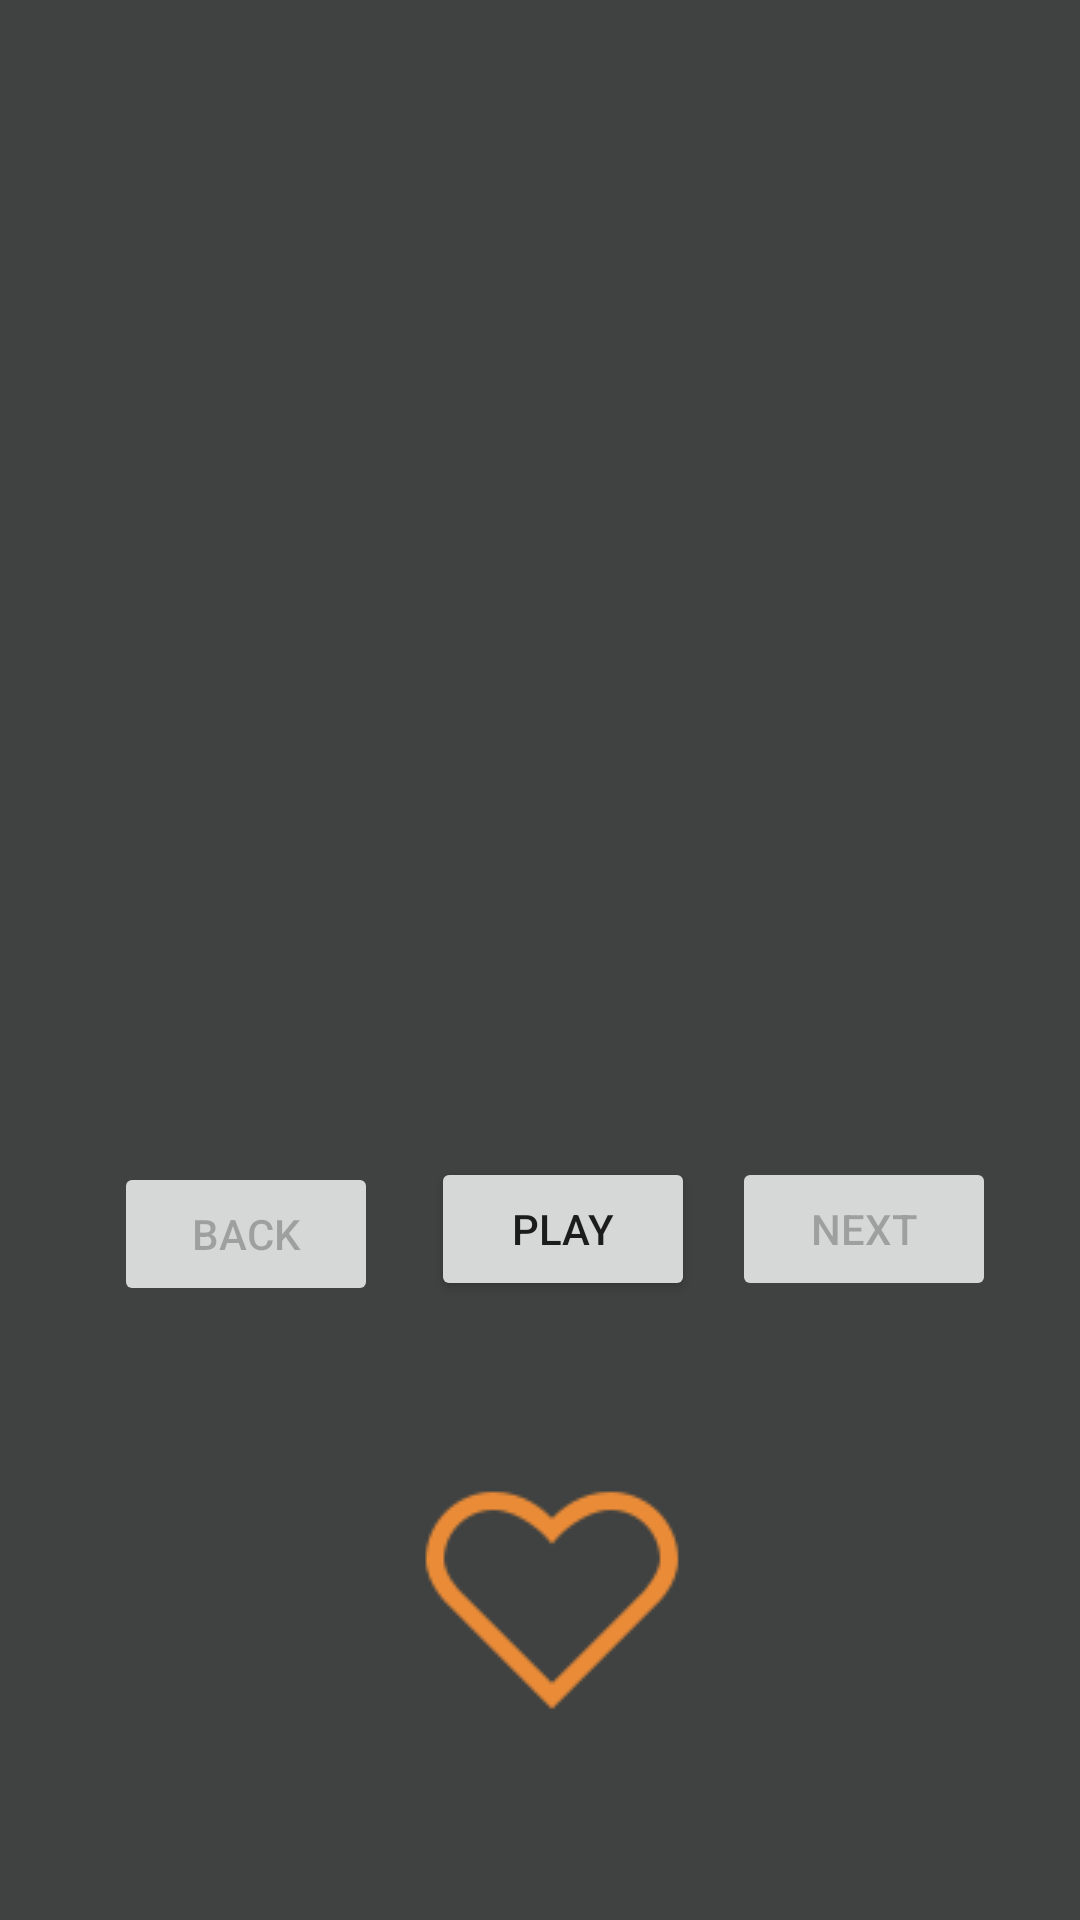

Named icons in this screenshot (1080x1920) and their centers, [x,y]:
heart: [552,1600]
